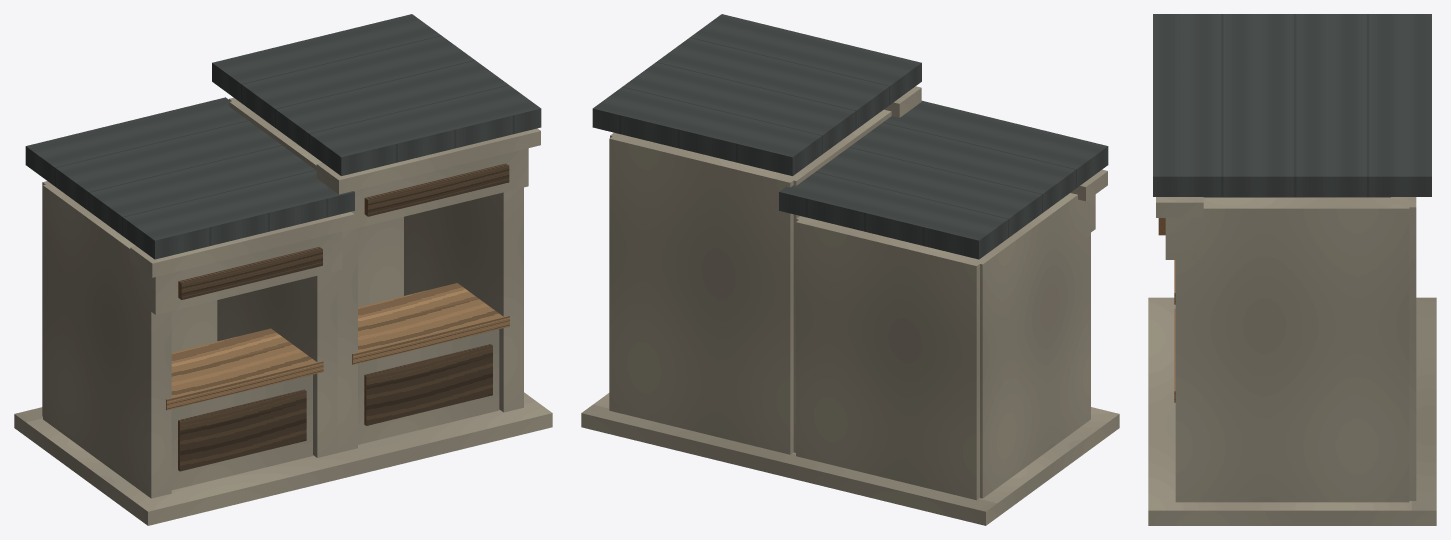
Rendered from damaturu.glb.
The picture shows the model from 3 angles, left to right: view 1: azimuth 30°, elevation 25°; view 2: azimuth 150°, elevation 25°; view 3: azimuth 270°, elevation 25°; orthographic projection. The views are drawn at different scales.
Parts seen in each view (by area): view 1: damaturu; view 2: damaturu; view 3: damaturu.
Boxes of the visible parts, x1,y1,x2,y2 form: damaturu: [14, 14, 552, 525]; damaturu: [581, 14, 1119, 525]; damaturu: [1148, 14, 1436, 525].
Size of the model in its own units: 3.05 by 2.3 by 1.75.
1 material, 1 textured.
